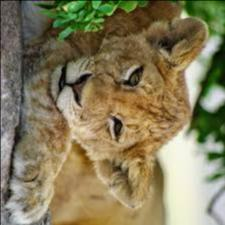Non_Gorille: (6, 3, 225, 225)
